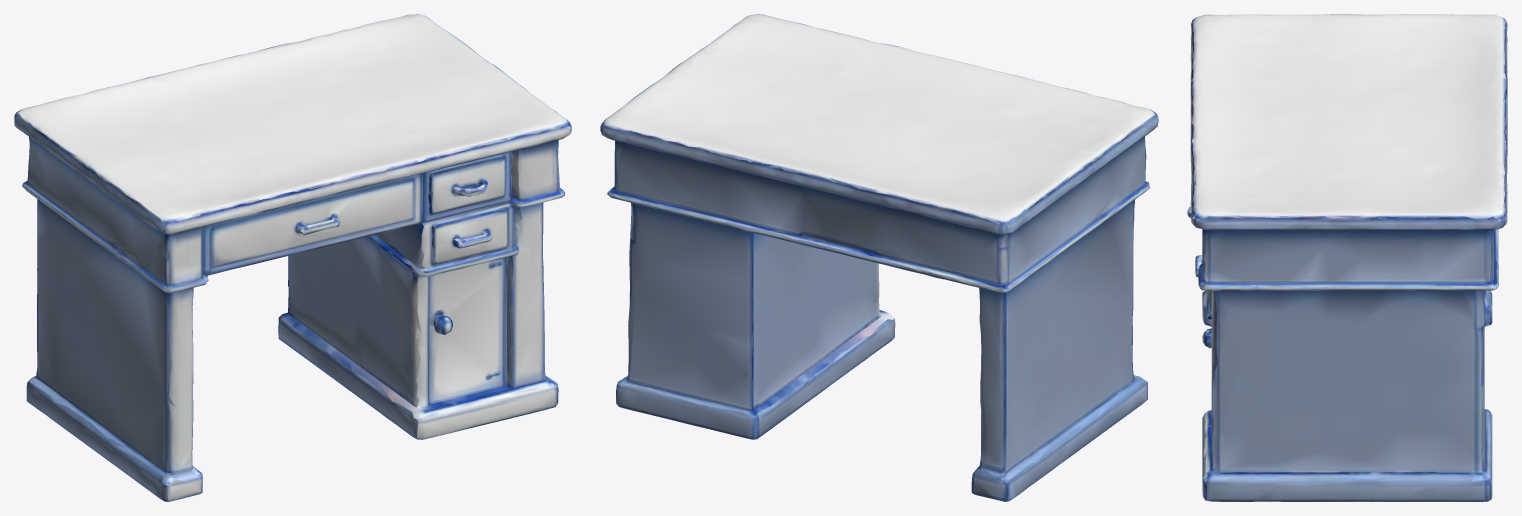
The model's file is White_desk.glb.
The picture shows the model from 3 angles, left to right: view 1: azimuth 30°, elevation 25°; view 2: azimuth 150°, elevation 25°; view 3: azimuth 270°, elevation 25°; orthographic projection.
Parts seen in each view (by area): view 1: Mesh_0; view 2: Mesh_0; view 3: Mesh_0.
Boxes of the visible parts, <box> form: Mesh_0: <box>14,14,571,501</box>; Mesh_0: <box>600,14,1158,501</box>; Mesh_0: <box>1187,14,1507,501</box>.
Bounding box in the file's own units: 1.91 × 1.27 × 1.26.
1 material, 1 textured.
